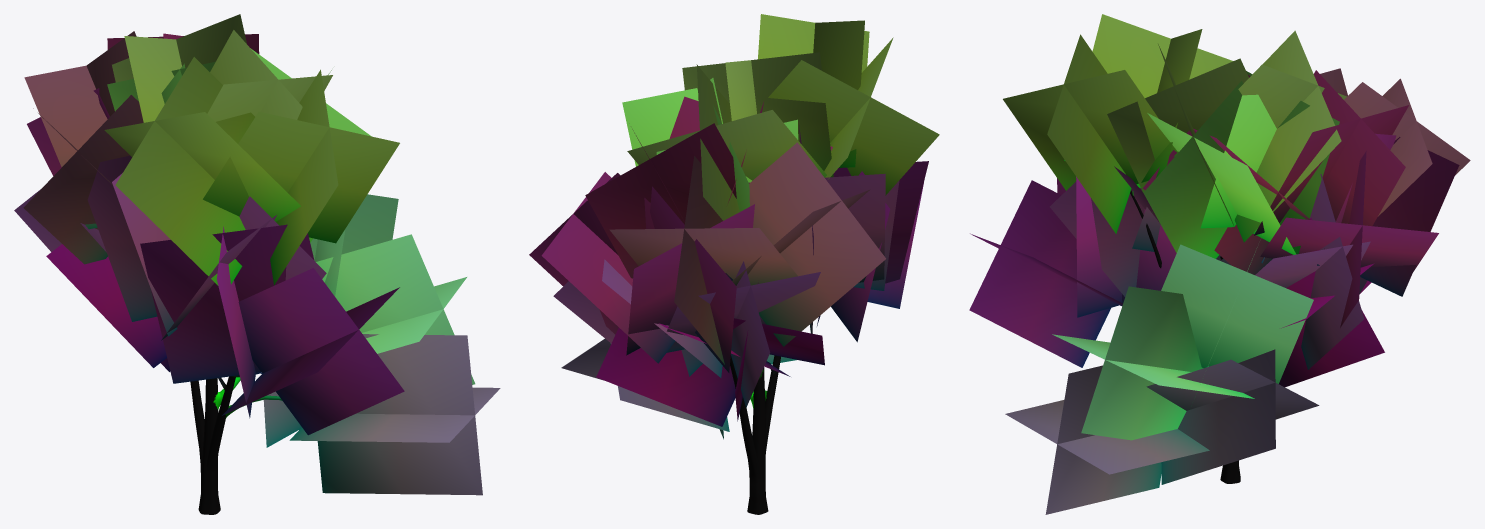
The model's file is URP_P12_Tree_17_LOD_1.fbx.
3 renders of one model, left to right at view 1: azimuth 30°, elevation 25°; view 2: azimuth 150°, elevation 25°; view 3: azimuth 270°, elevation 25°, orthographic. The views are drawn at different scales.
Visible parts, largest first — view 1: Tree_17_LOD_1; view 2: Tree_17_LOD_1; view 3: Tree_17_LOD_1.
Boxes of the visible parts, x1=… form: Tree_17_LOD_1: x1=14, y1=14, x2=500, y2=514; Tree_17_LOD_1: x1=529, y1=14, x2=939, y2=514; Tree_17_LOD_1: x1=969, y1=14, x2=1470, y2=514.
Size of the model in its own units: 178 by 208 by 217.
